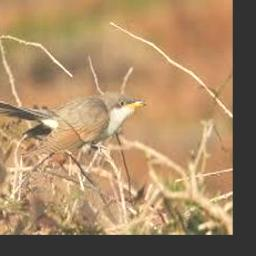Cuckoo: (0, 93, 149, 153)
